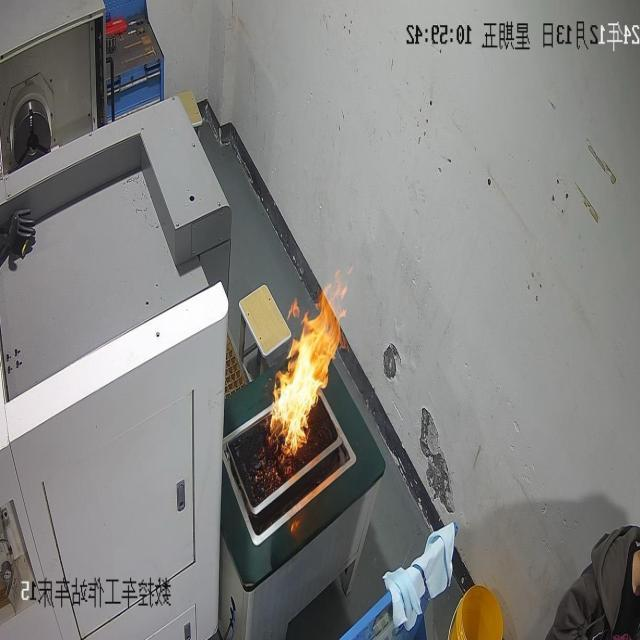smoke: (268, 270, 350, 459)
